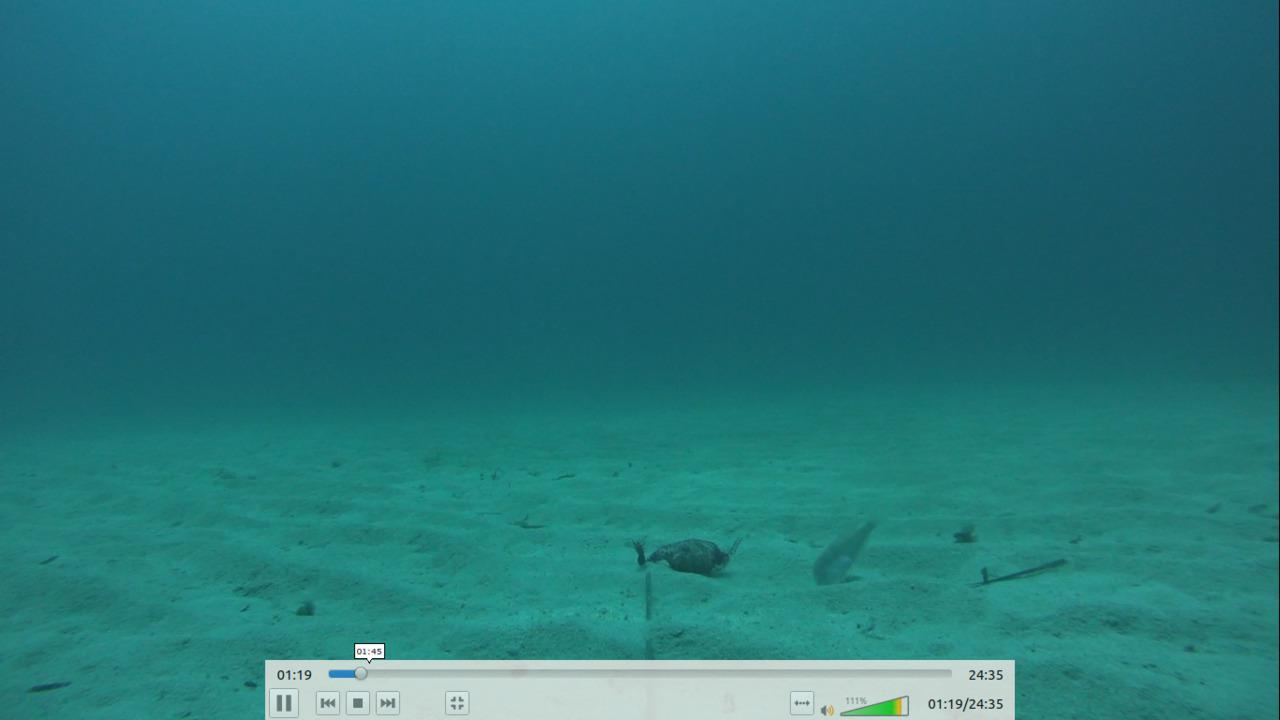raor: (807, 515, 890, 589)
